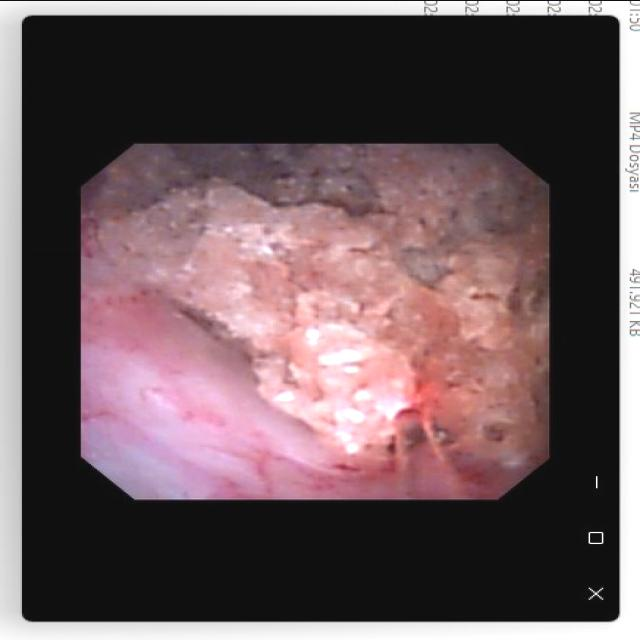stone: (91, 148, 543, 461)
